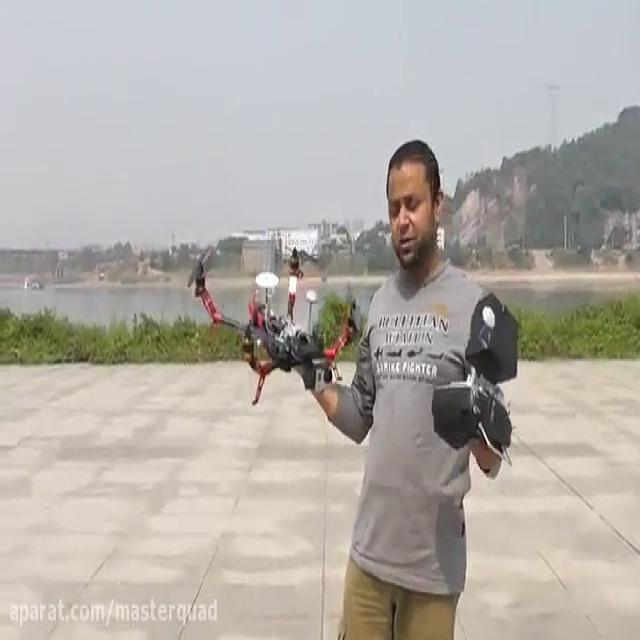drone: (184, 235, 361, 409)
